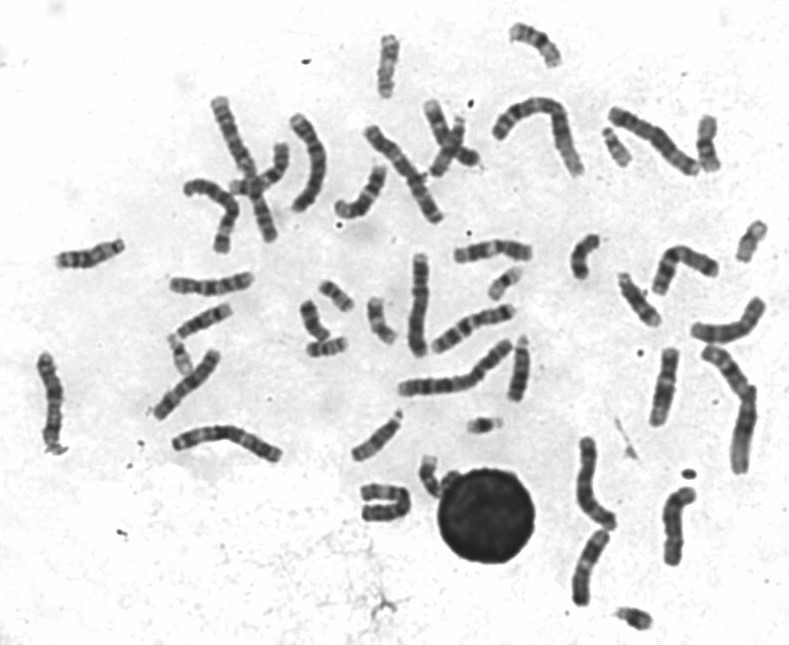chromosomes: (208, 90, 286, 248), (357, 122, 453, 230), (696, 335, 763, 488), (489, 92, 591, 185), (604, 100, 709, 186), (390, 336, 518, 401), (148, 345, 225, 425), (168, 422, 293, 470), (426, 301, 524, 360), (28, 342, 75, 464), (570, 432, 623, 538), (181, 172, 245, 258), (680, 292, 773, 351), (419, 90, 486, 171), (283, 110, 331, 221), (398, 246, 440, 367), (649, 241, 728, 303), (656, 480, 706, 577), (223, 137, 296, 200), (564, 527, 615, 616), (644, 334, 686, 440), (343, 404, 412, 468), (46, 230, 135, 279), (330, 161, 392, 224), (611, 268, 665, 338), (506, 18, 569, 77), (352, 478, 420, 530), (426, 109, 474, 182), (500, 327, 540, 409), (445, 235, 544, 268), (163, 268, 259, 301), (408, 448, 468, 500), (174, 300, 243, 345), (727, 215, 777, 275), (686, 107, 728, 177), (477, 261, 537, 307), (566, 229, 613, 287), (370, 26, 404, 106), (361, 287, 399, 351), (310, 274, 360, 317), (456, 411, 519, 445), (599, 123, 638, 177), (608, 598, 661, 637), (291, 297, 334, 344), (299, 331, 355, 367), (164, 329, 197, 385)
